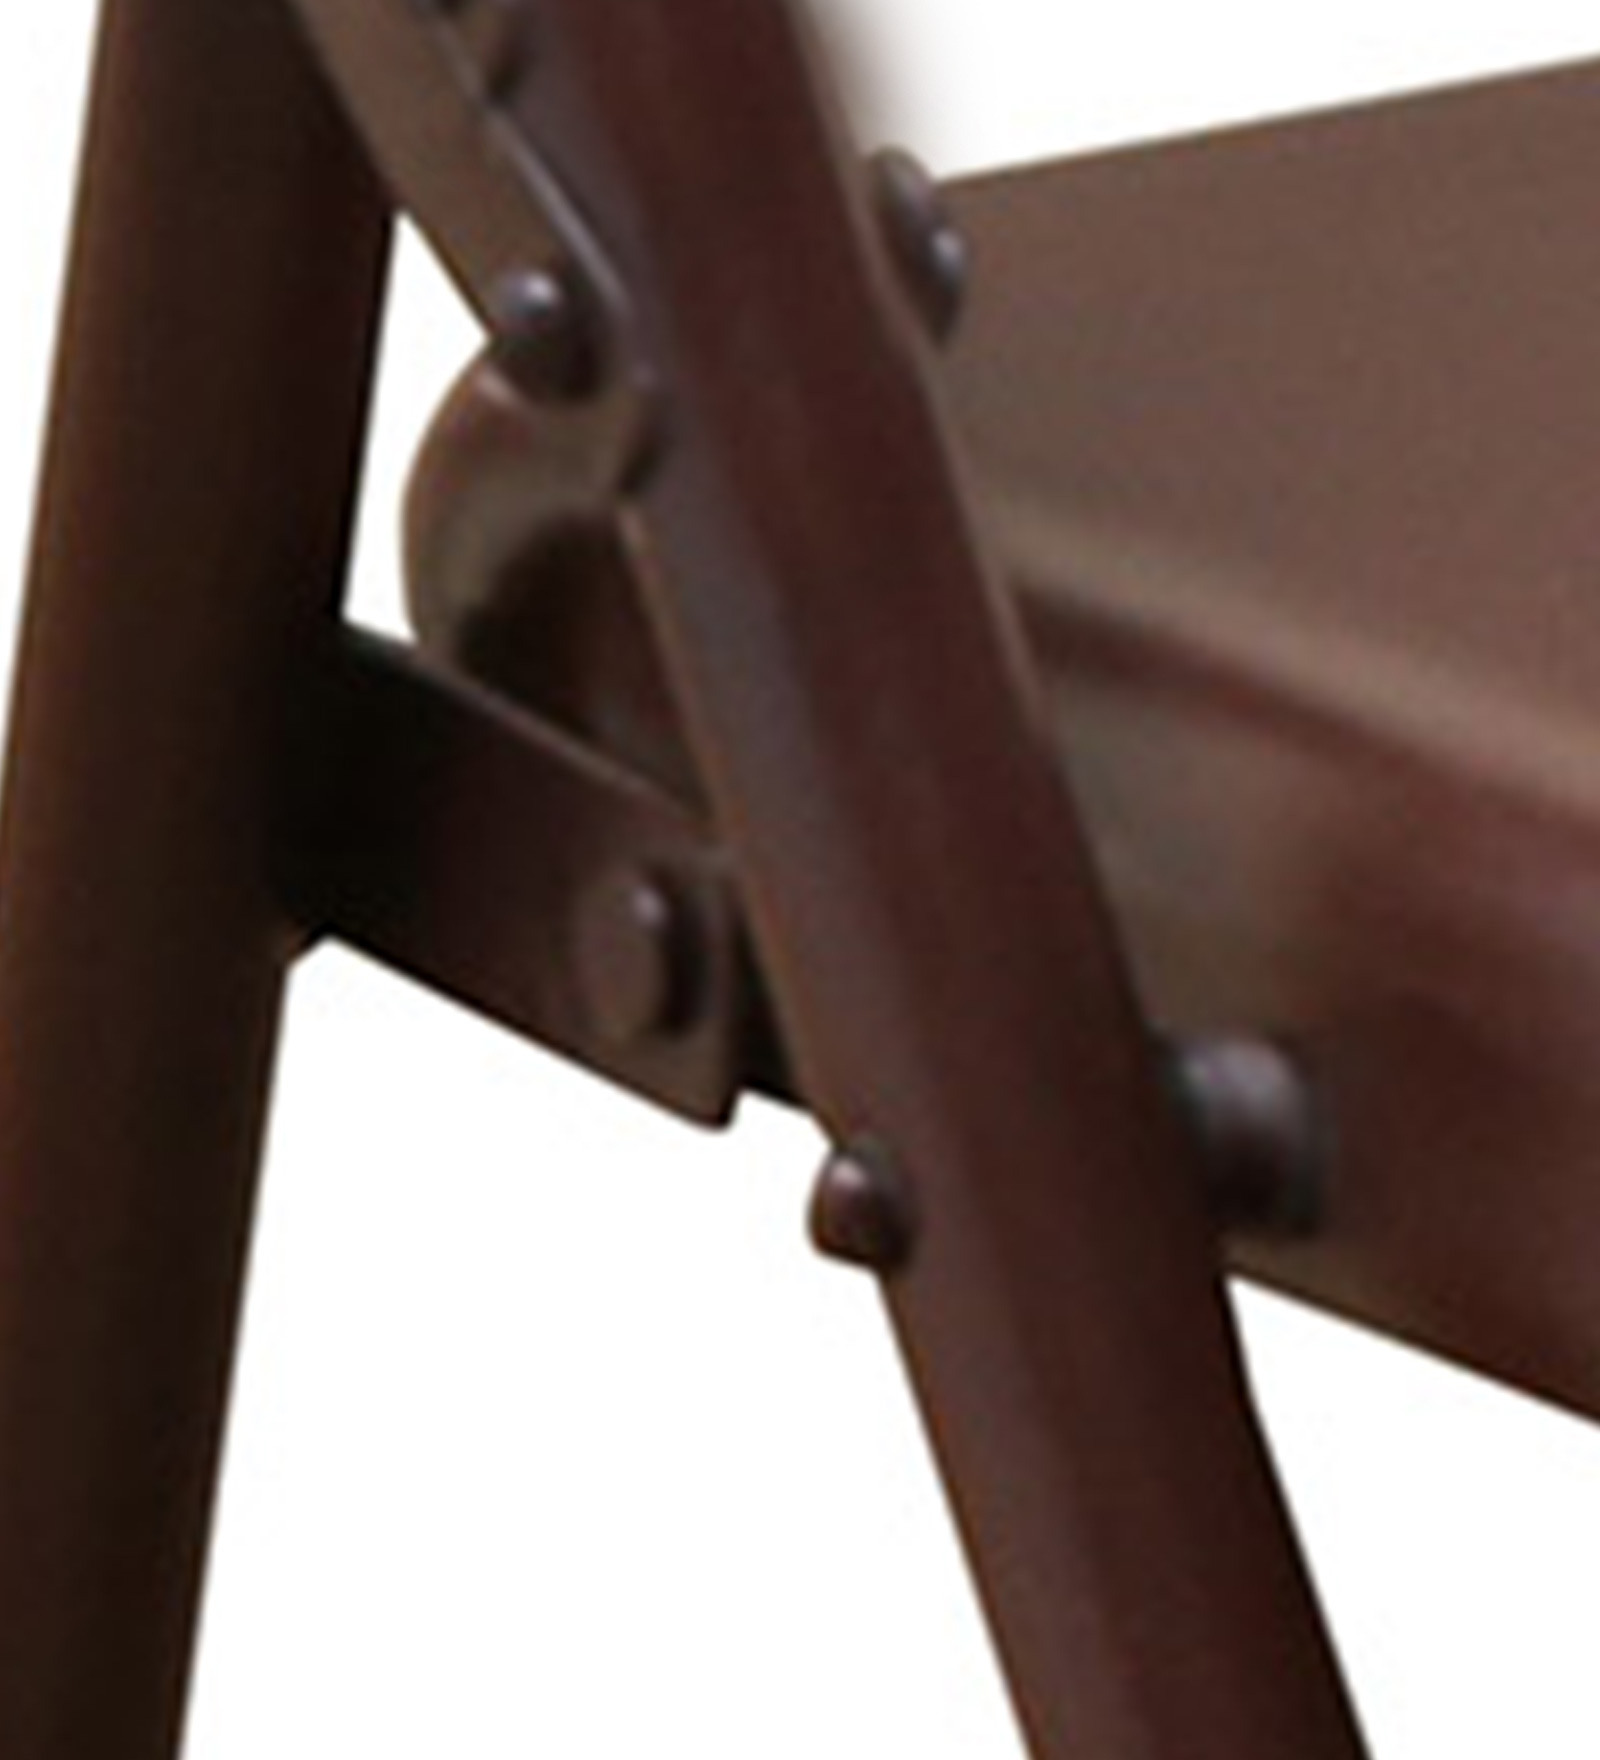Kell Folding Chair in Brown Color by Bohemiana: (9, 5, 1595, 1760)
